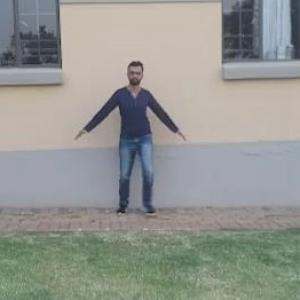land: (76, 64, 184, 230)
